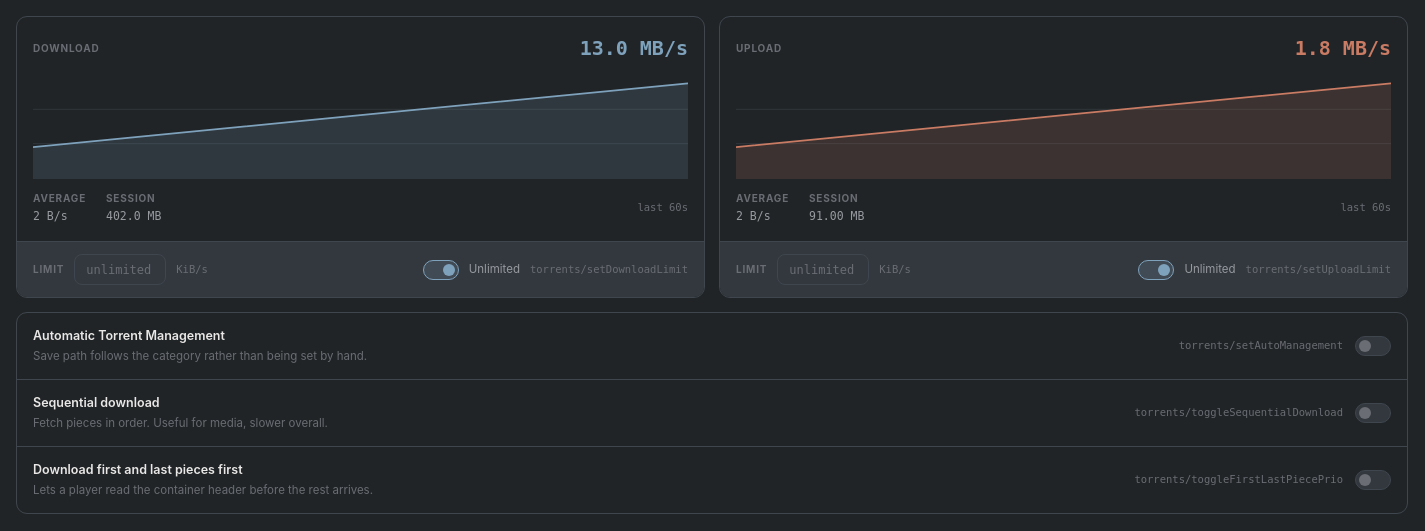
Test: SpeedTab limits › puts the switch back when an opened field is left empty
The image size is (1425, 531).
Click the switch named "Upload unlimited".
click(1156, 270)  # box [1138, 260, 1174, 280]
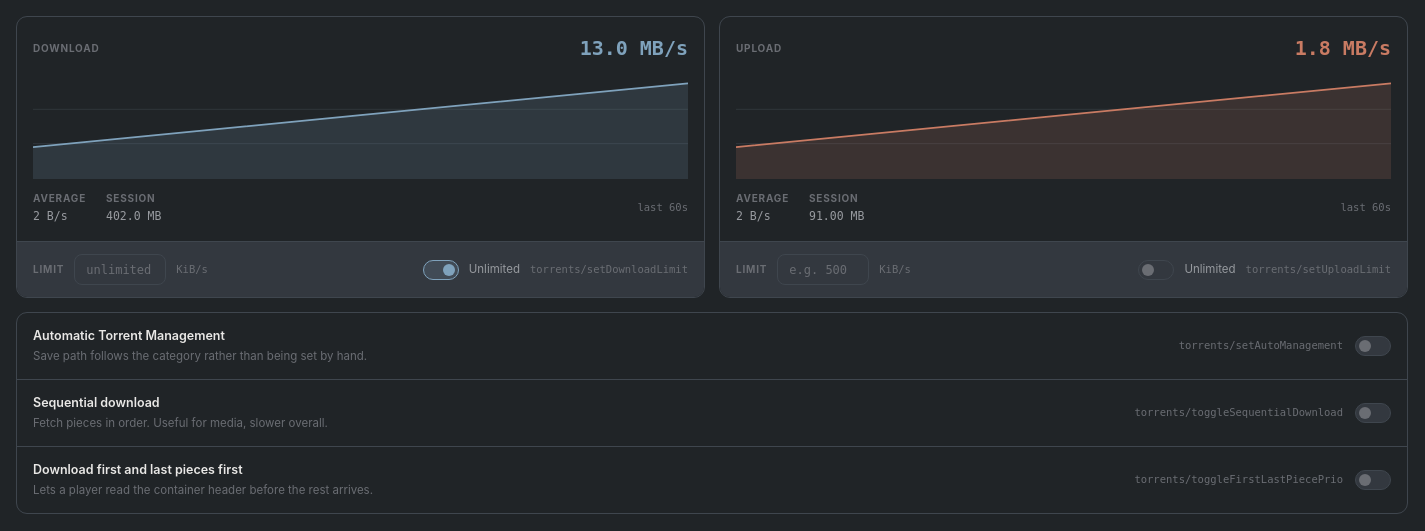
Leave the field named "Upload limit", box [789, 261, 857, 279]
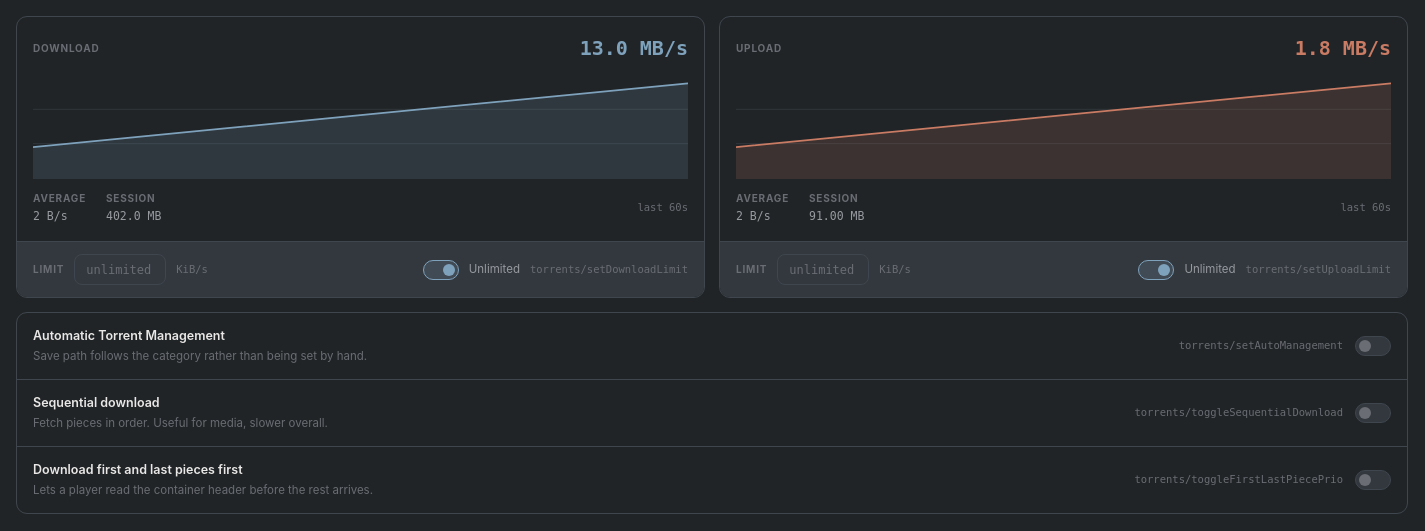
Result: the switch named "Upload unlimited" is checked at [1138, 260, 1174, 280]
Result: the field named "Upload limit" is disabled at [789, 261, 857, 279]
